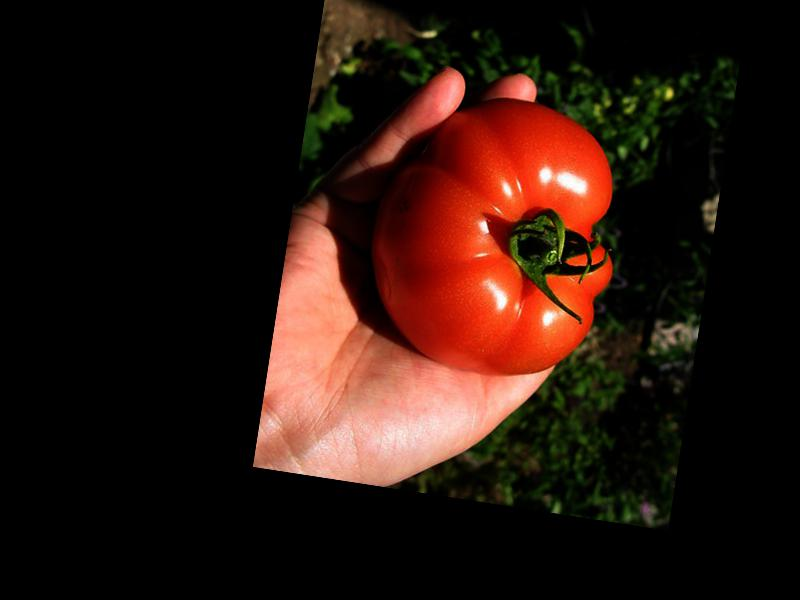Tomato: (358, 81, 635, 388)
